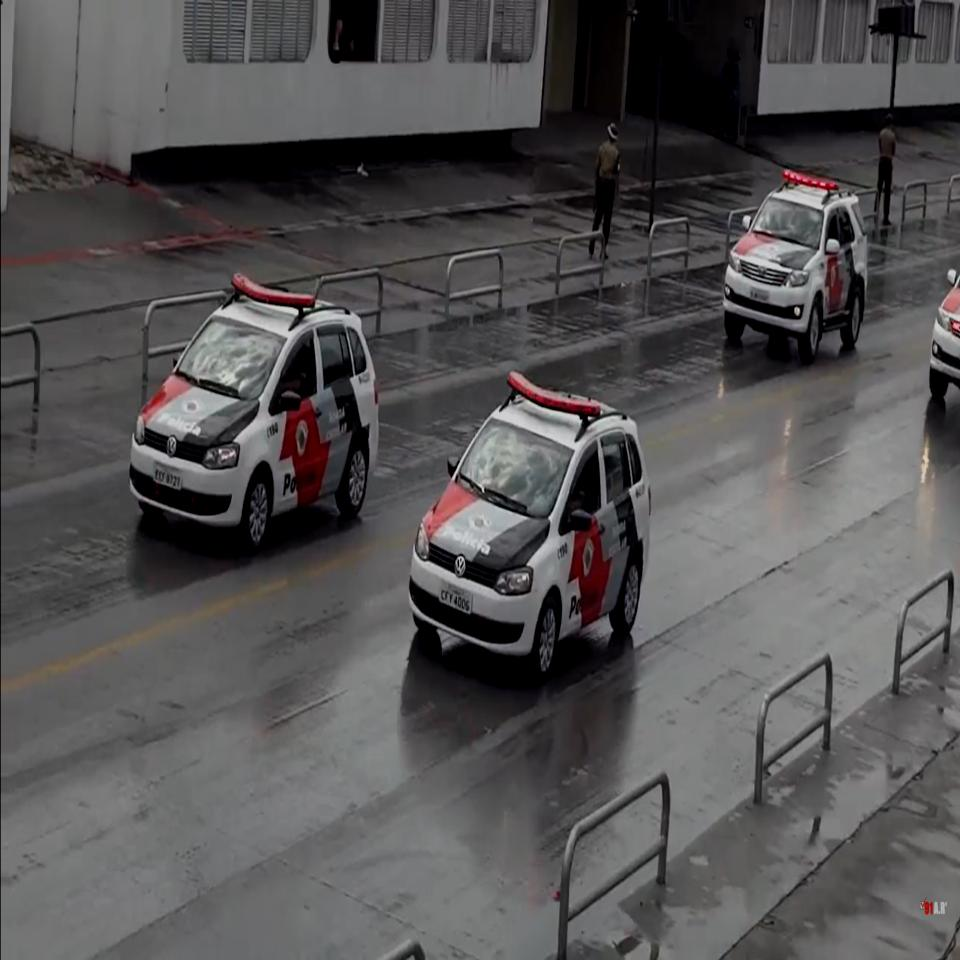viatura: (409, 368, 656, 681), (130, 267, 381, 557), (723, 168, 870, 366)
